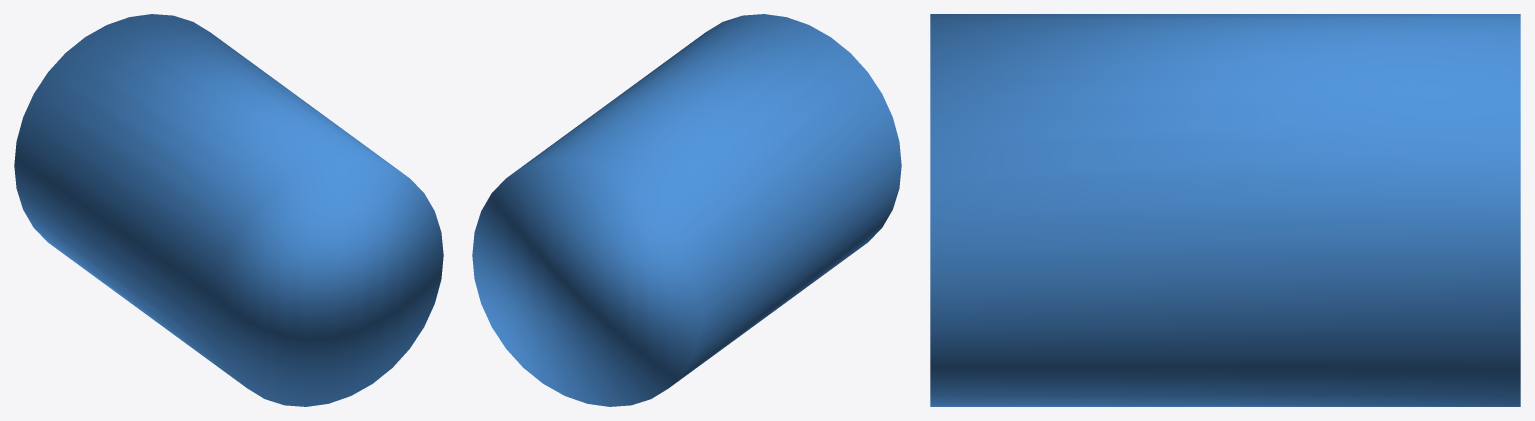
Rendered from expected.gltf.
3 views of the same model, side by side, from view 1: azimuth 30°, elevation 25°; view 2: azimuth 150°, elevation 25°; view 3: azimuth 270°, elevation 25° (orthographic). The views are drawn at different scales.
Size of the model in its own units: 20 by 20 by 30.
